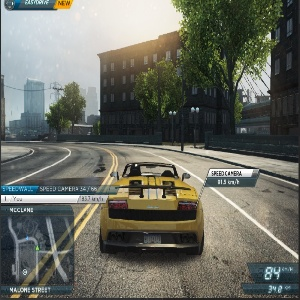building: (97, 30, 237, 148), (24, 78, 45, 146)
tree: (173, 1, 278, 149), (135, 59, 182, 143), (46, 82, 87, 146)
